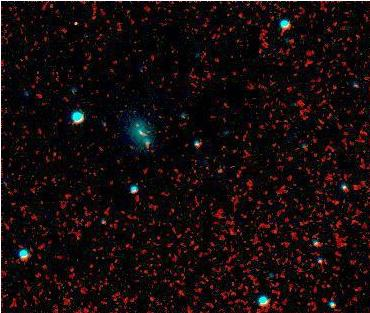star: (118, 111, 148, 141)
